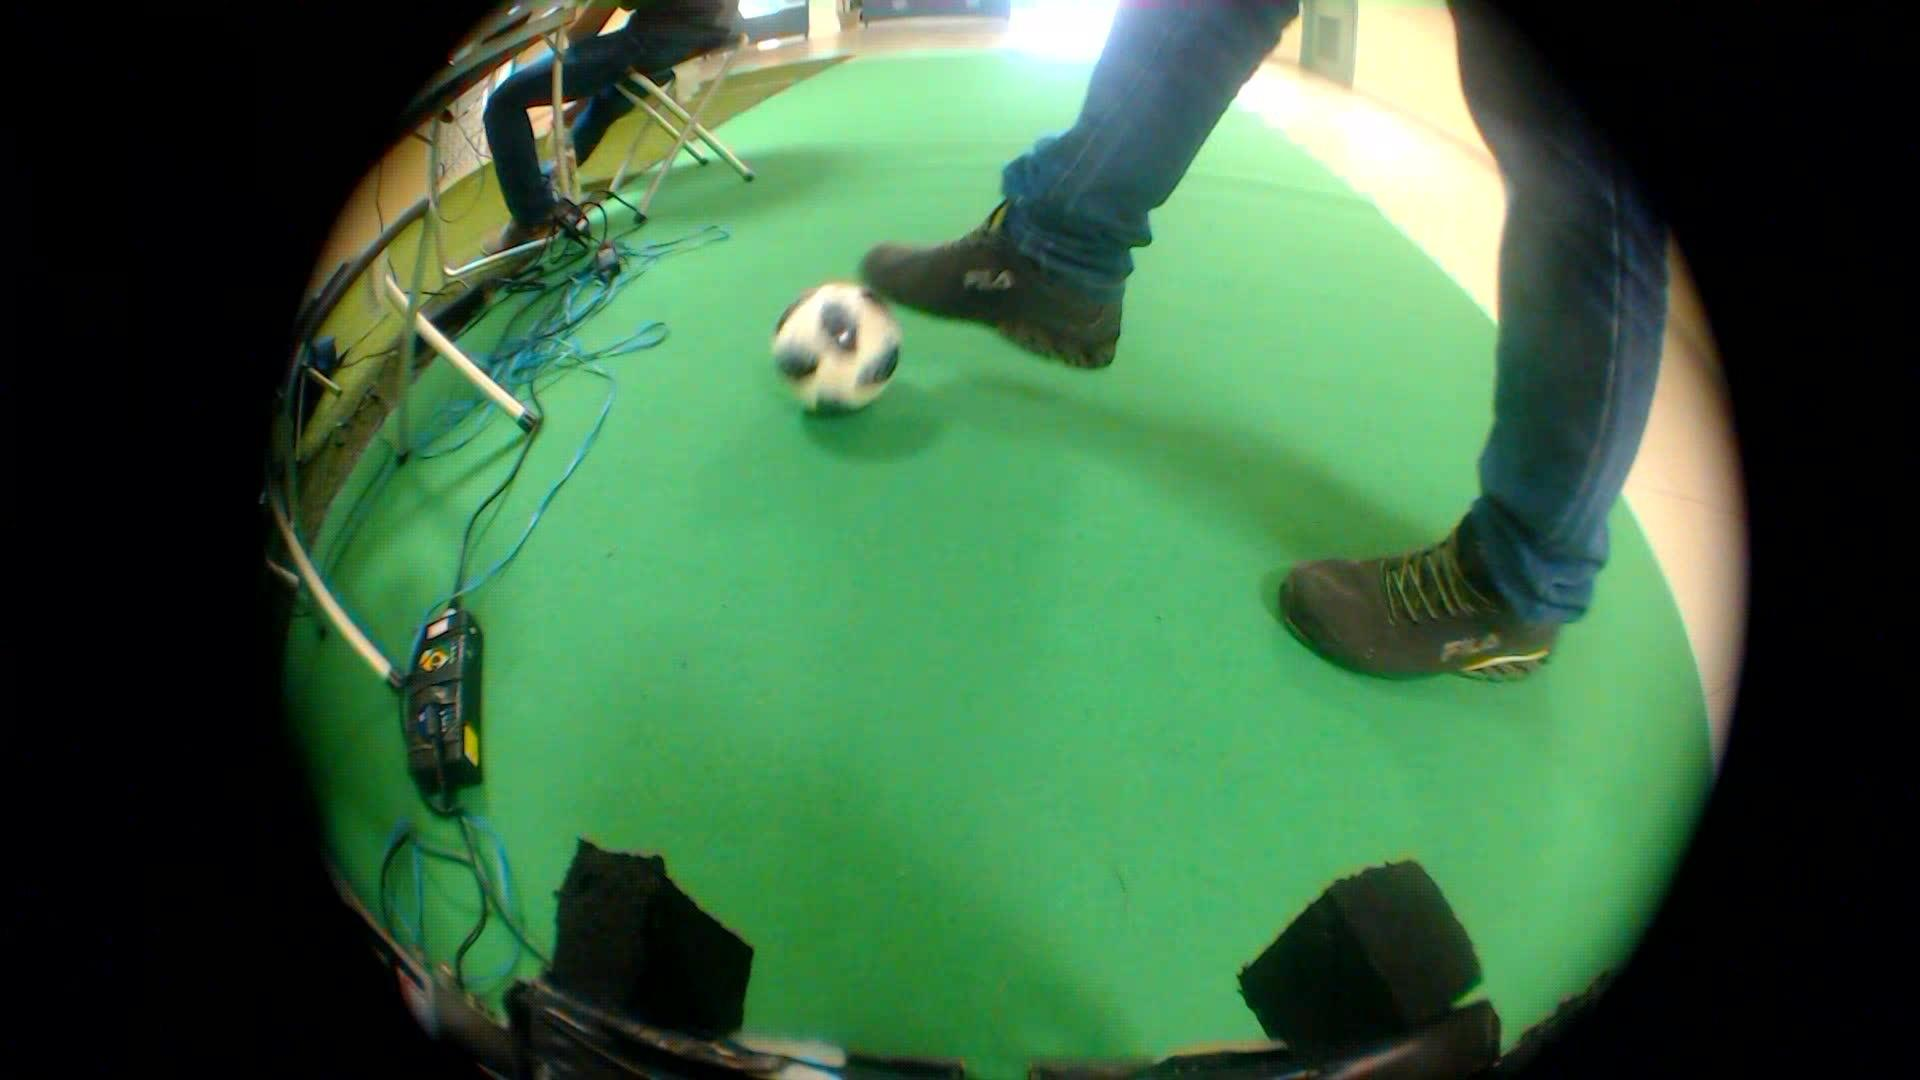ball: (750, 268, 923, 426)
